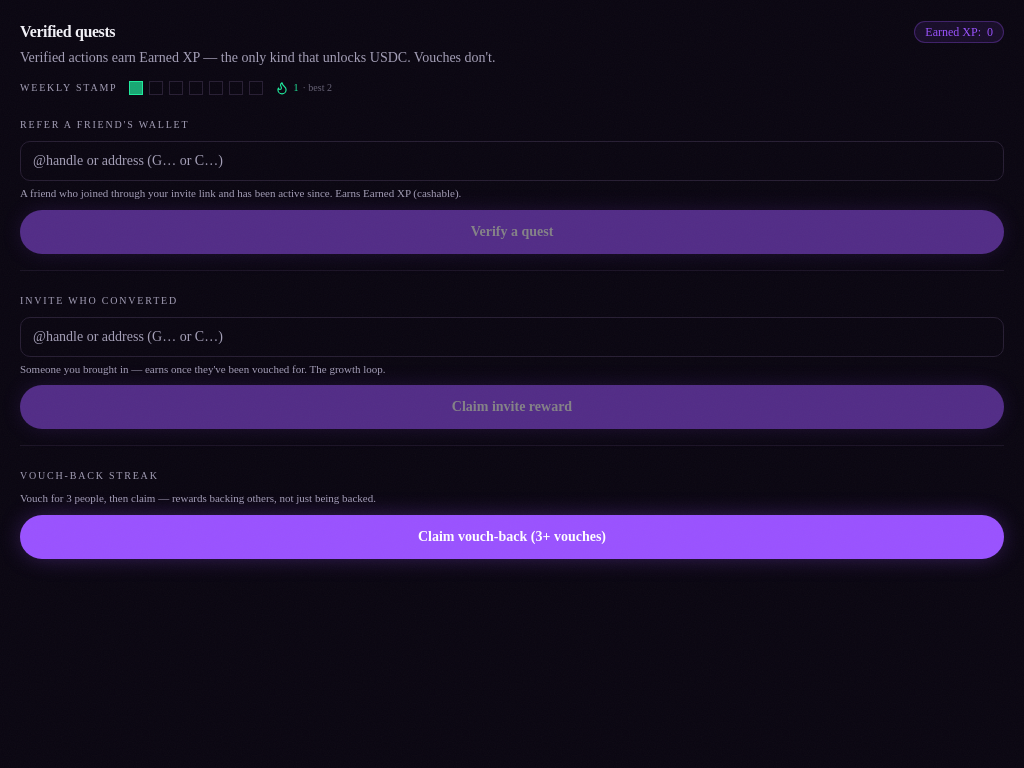
Test: Quests › still reports a quest the attester declines
Click the button "Claim vouch-back (3+ vouches)".
click(512, 536)  # box 20,514 -> 1004,558
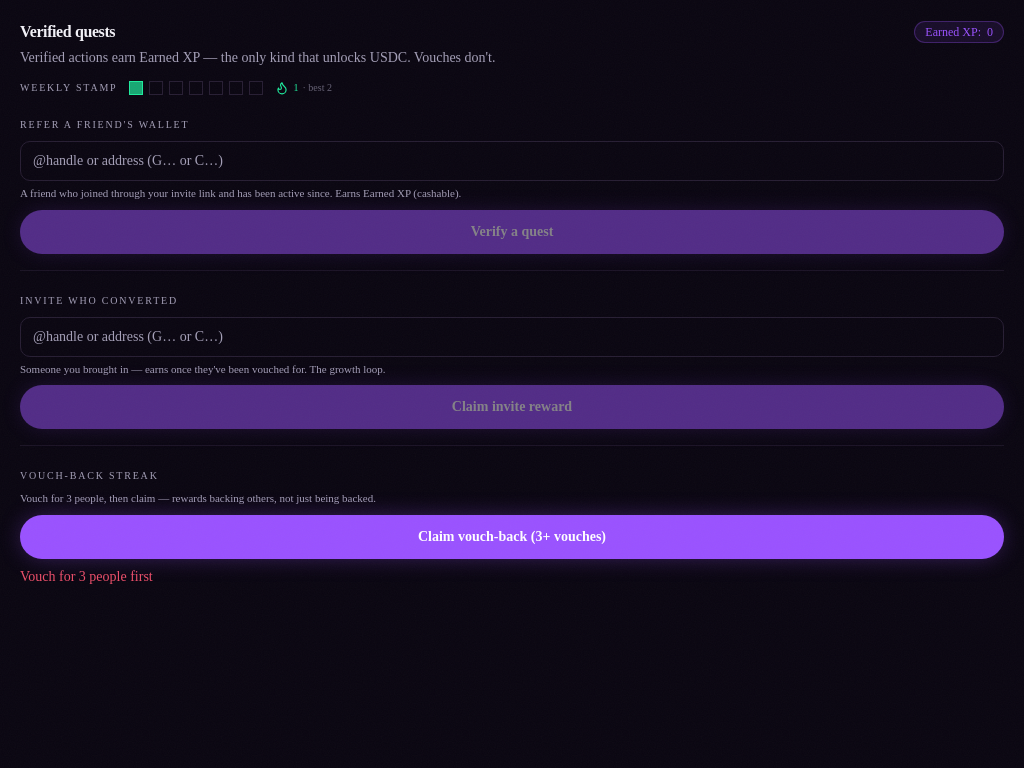
Check: the text "Vouch for 3 people first" is shown, box 20,568 -> 153,584
